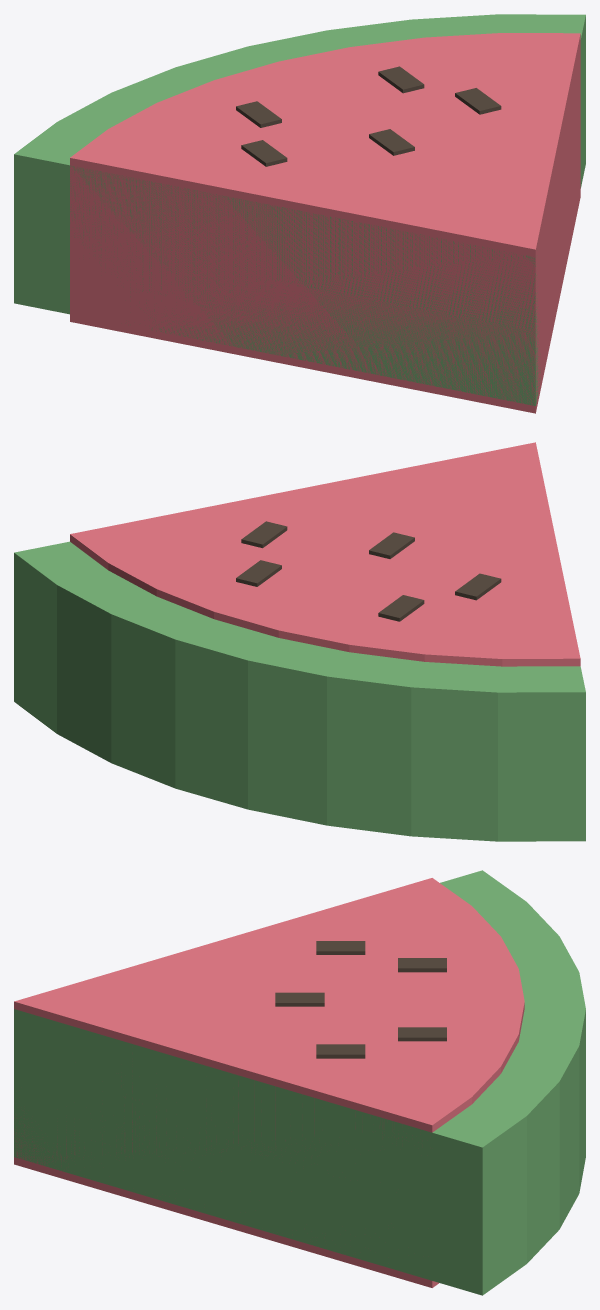
The model's file is melon_slice_held.gltf.
3 views of the same model, one above another, from view 1: azimuth 30°, elevation 25°; view 2: azimuth 150°, elevation 25°; view 3: azimuth 270°, elevation 25° (orthographic).
Visible parts, largest first — view 1: plants_melon_slice_held; view 2: plants_melon_slice_held; view 3: plants_melon_slice_held.
Part boxes in pixels (x1=…): plants_melon_slice_held: x1=14, y1=14, x2=585, y2=413; plants_melon_slice_held: x1=14, y1=442, x2=585, y2=841; plants_melon_slice_held: x1=14, y1=870, x2=585, y2=1295.
Size of the model in its own units: 0.1606 by 0.046 by 0.14.
